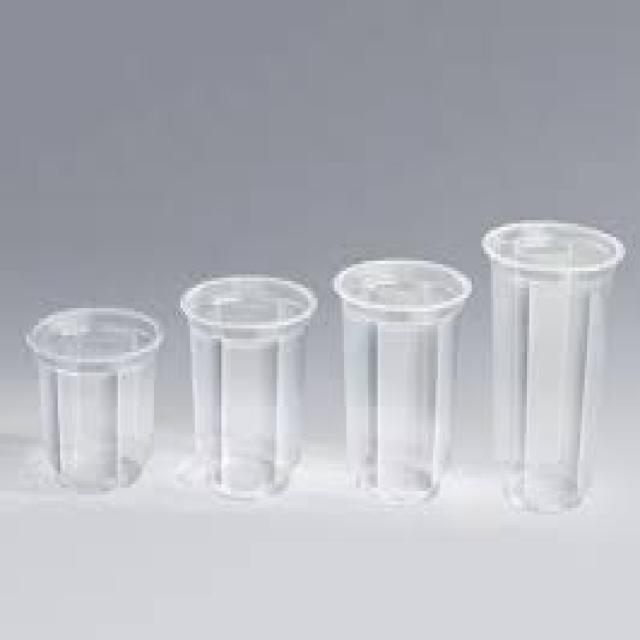cup: (482, 195, 621, 535), (334, 204, 472, 530), (172, 246, 322, 544)
